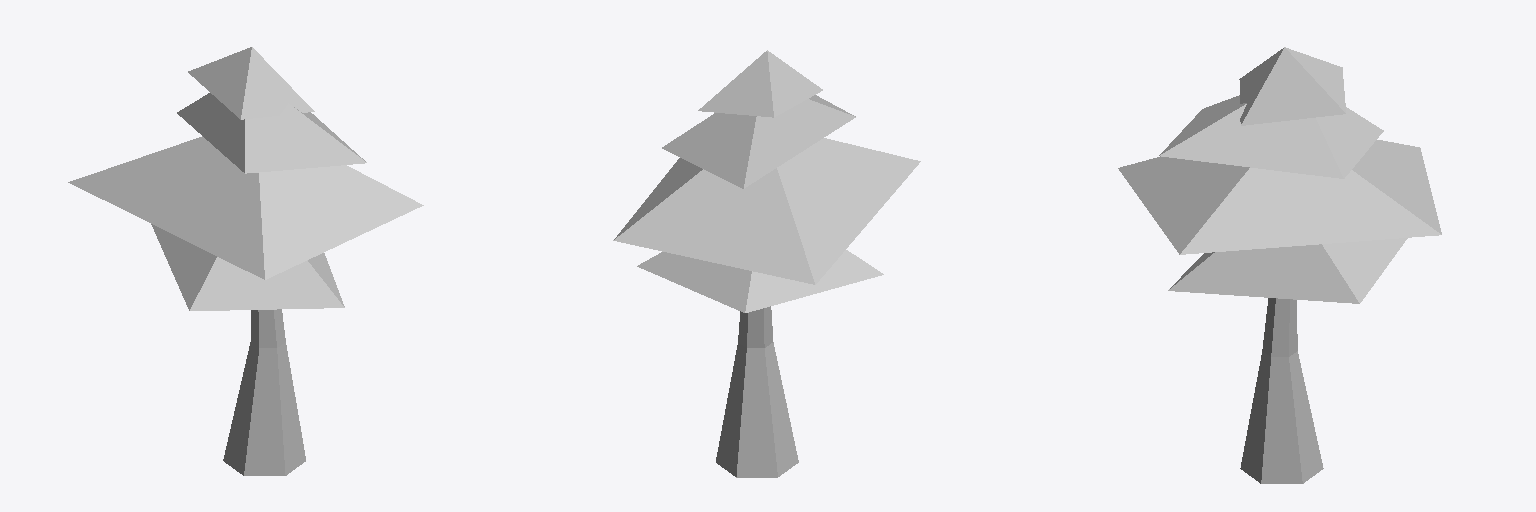
The model's file is tree03.obj.
3 views of the same model, side by side, from view 1: azimuth 30°, elevation 25°; view 2: azimuth 150°, elevation 25°; view 3: azimuth 270°, elevation 25° (orthographic).
Visible parts, largest first — view 1: Converted_object_1; view 2: Converted_object_1; view 3: Converted_object_1.
Boxes of the visible parts, x1=… form: Converted_object_1: x1=68, y1=47, x2=423, y2=475; Converted_object_1: x1=613, y1=50, x2=920, y2=477; Converted_object_1: x1=1118, y1=47, x2=1441, y2=483.
Bounding box in the file's own units: 4.86 × 8.2 × 5.8.